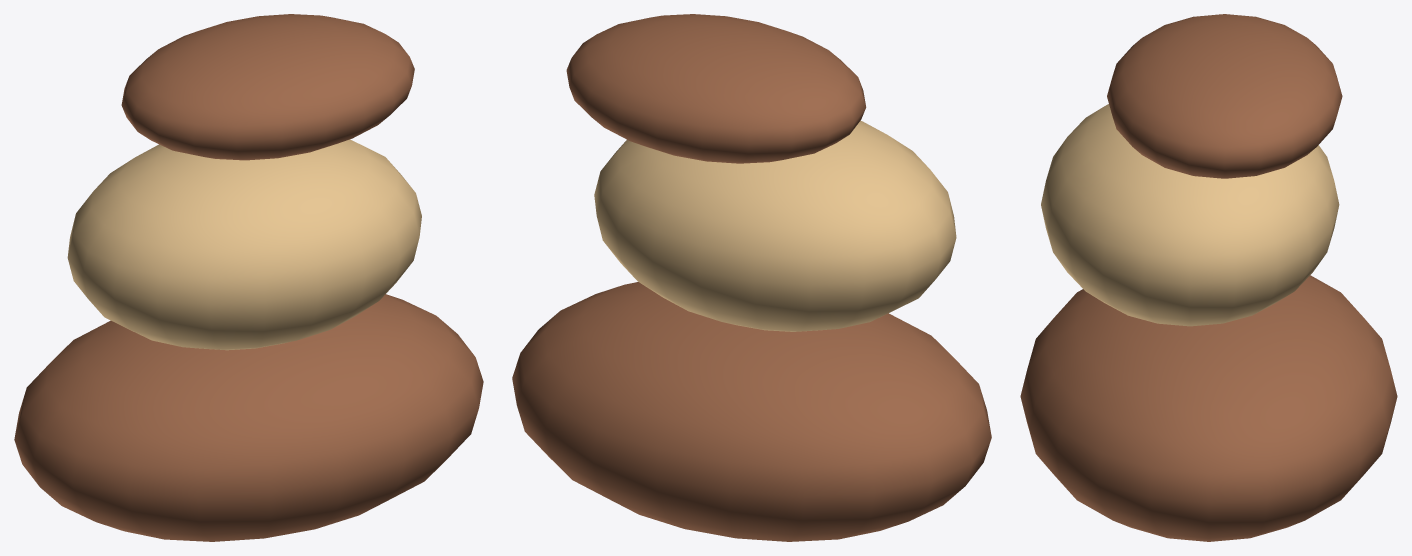
File: initial-ornament-stacked-stones.glb
3 renders of one model, left to right at view 1: azimuth 30°, elevation 25°; view 2: azimuth 150°, elevation 25°; view 3: azimuth 270°, elevation 25°, orthographic. The views are drawn at different scales.
Parts seen in each view (by area): view 1: stone-bottom, stone-middle, stone-top; view 2: stone-bottom, stone-middle, stone-top; view 3: stone-bottom, stone-middle, stone-top.
Boxes of the visible parts, bbox=[...] form: stone-bottom: bbox=[14, 294, 483, 541]; stone-middle: bbox=[67, 139, 421, 350]; stone-top: bbox=[121, 14, 414, 160]; stone-bottom: bbox=[512, 282, 991, 541]; stone-middle: bbox=[594, 120, 956, 331]; stone-top: bbox=[566, 14, 866, 163]; stone-bottom: bbox=[1020, 275, 1397, 541]; stone-middle: bbox=[1041, 104, 1339, 326]; stone-top: bbox=[1107, 14, 1342, 178].
Bounding box in the file's own units: 0.16 × 0.1625 × 0.12.
